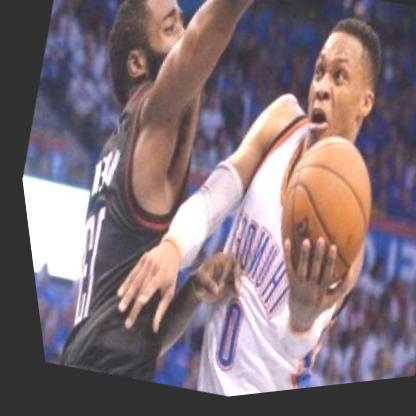basketball: (237, 126, 396, 313)
